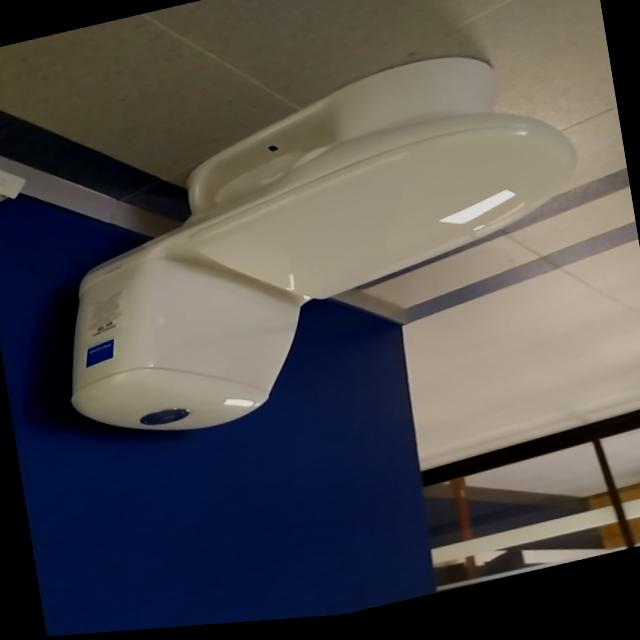toilet: (30, 35, 607, 462)
